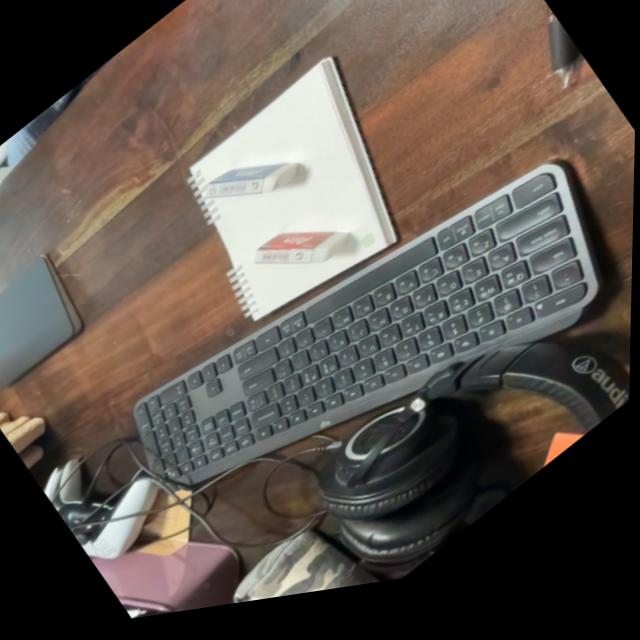blue: (195, 129, 312, 246)
red: (244, 198, 359, 315)
